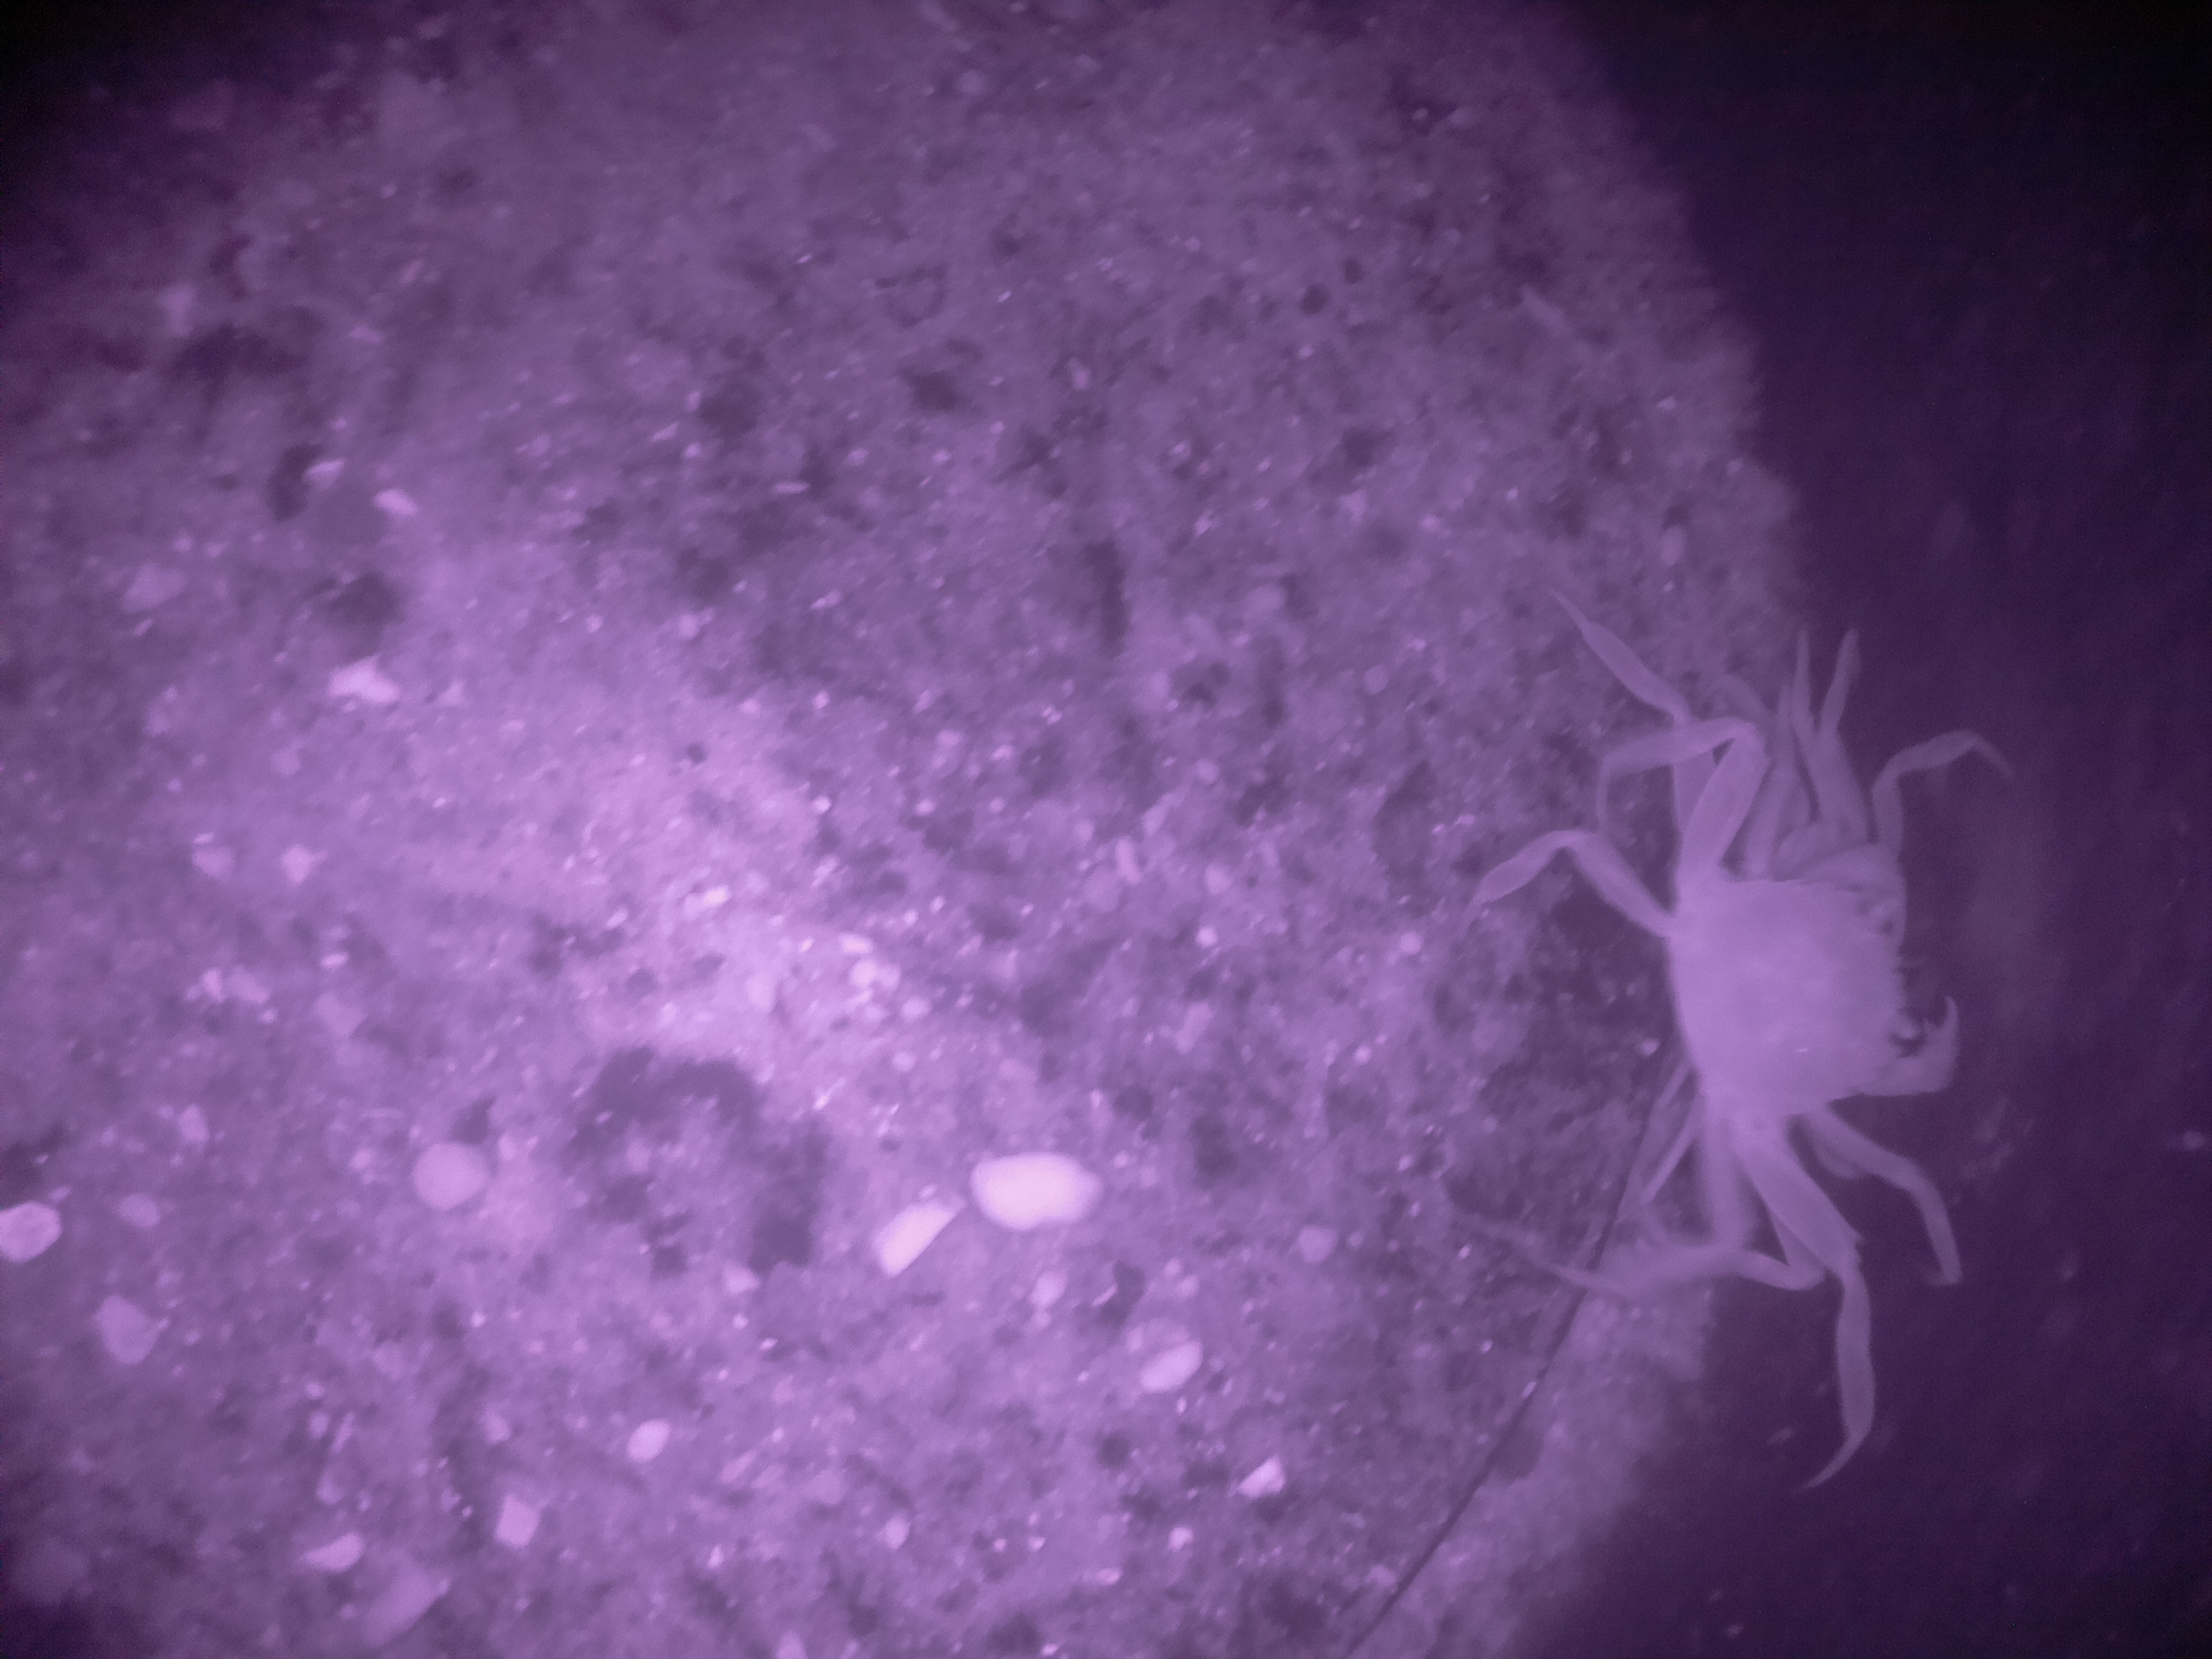Crab: (1564, 796, 2019, 1251)
